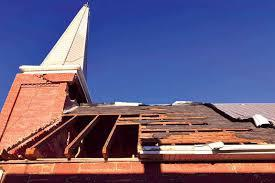sagging_roof: (10, 83, 275, 164)
